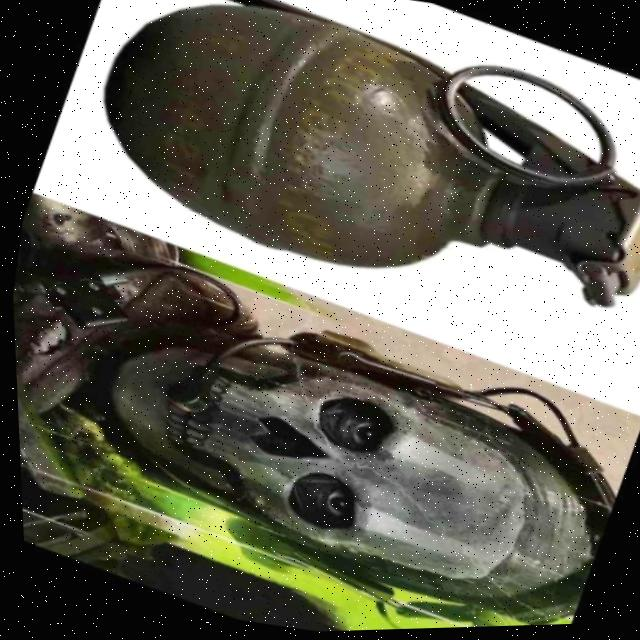grenade: (47, 0, 640, 386)
